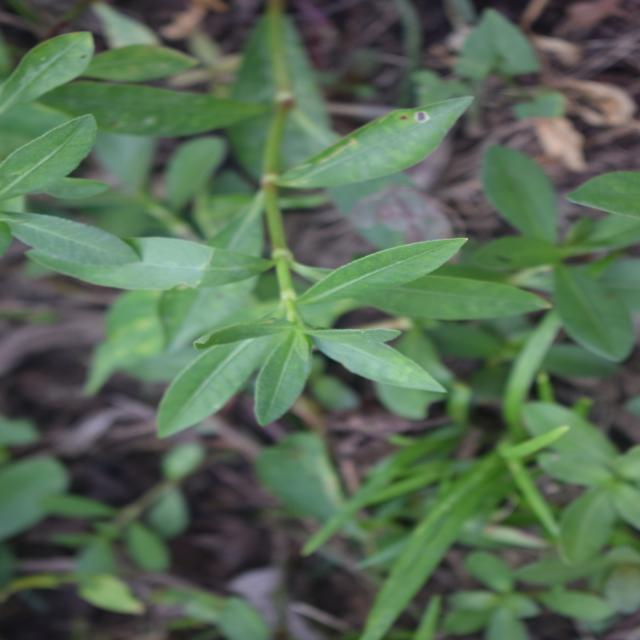Alligatorweed: (194, 100, 448, 514)
